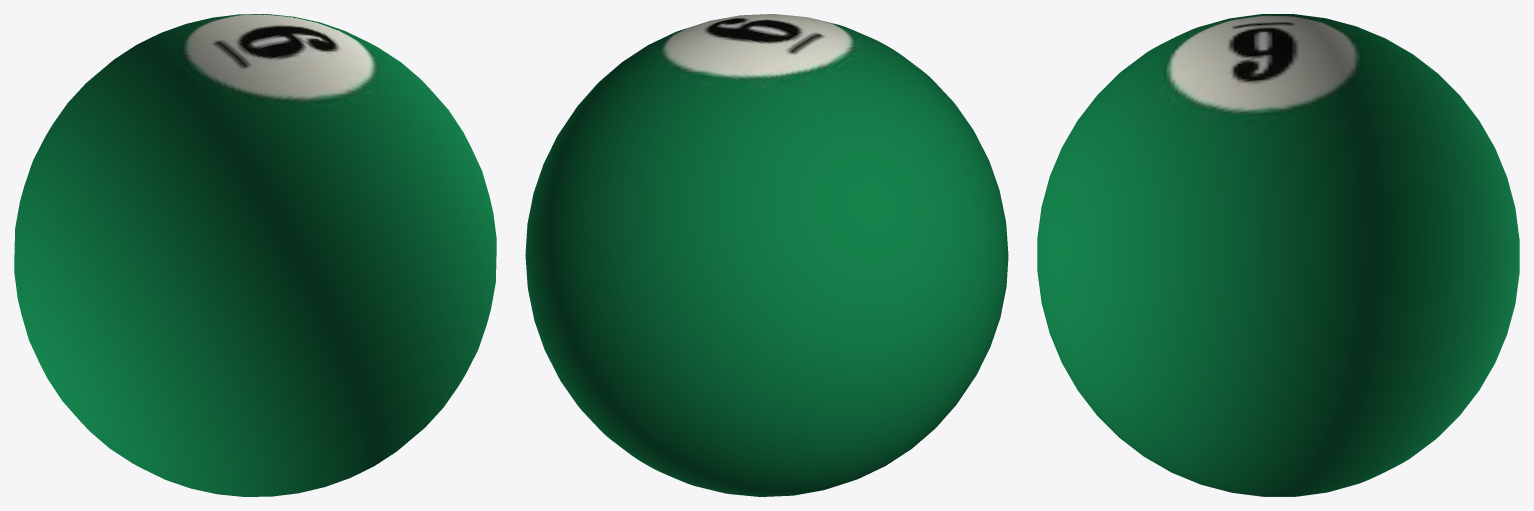
Rendered from billardBall6.glb.
The picture shows the model from 3 angles, left to right: view 1: azimuth 30°, elevation 25°; view 2: azimuth 150°, elevation 25°; view 3: azimuth 270°, elevation 25°; orthographic projection.
Visible parts, largest first — view 1: obj232; view 2: obj232; view 3: obj232.
Boxes of the visible parts, bbox=[...] form: obj232: bbox=[14, 14, 496, 496]; obj232: bbox=[525, 14, 1008, 496]; obj232: bbox=[1037, 14, 1519, 496].
Bounding box in the file's own units: 0.3899 × 0.3903 × 0.3895.
1 material, 1 textured.
